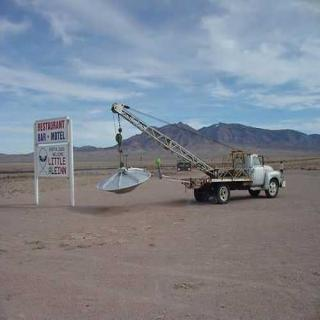Towing_truck: (102, 100, 286, 205)
